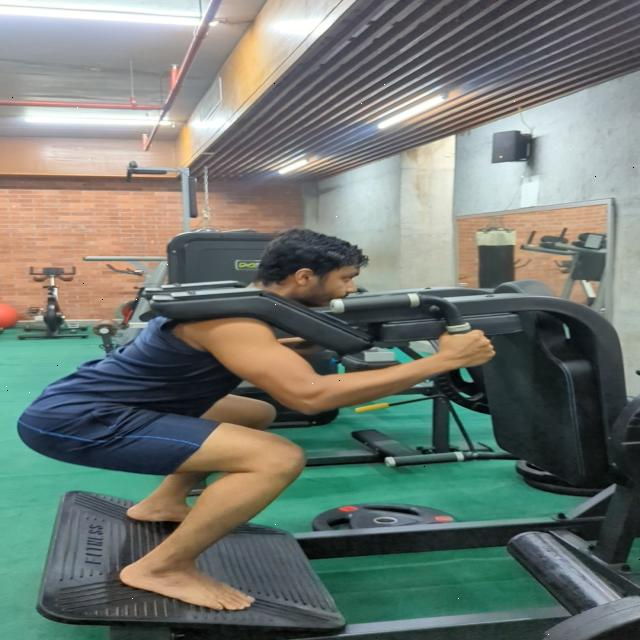Normal_SquatsWithBarbell: (12, 209, 517, 623)
